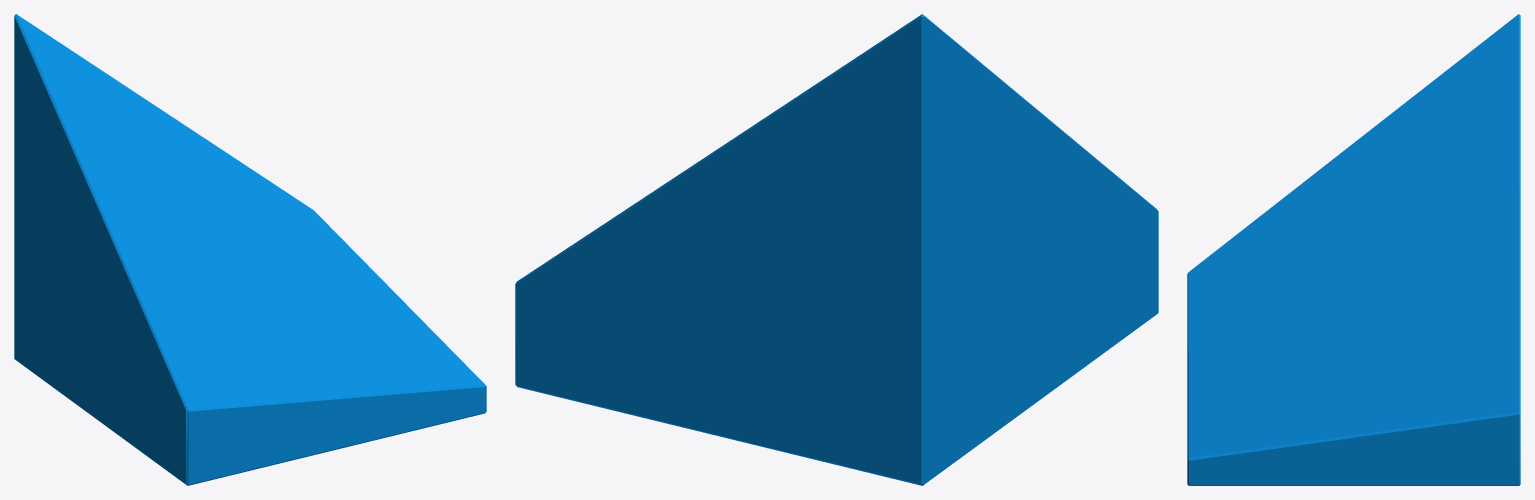
The model's file is Slide_Pyramid_09.fbx.
The picture shows the model from 3 angles, left to right: view 1: azimuth 30°, elevation 25°; view 2: azimuth 150°, elevation 25°; view 3: azimuth 270°, elevation 25°; orthographic projection. The views are drawn at different scales.
Parts seen in each view (by area): view 1: Slide_Pyramid_09; view 2: Slide_Pyramid_09; view 3: Slide_Pyramid_09.
Boxes of the visible parts, x1,y1,x2,y2 form: Slide_Pyramid_09: (14,14,486,485); Slide_Pyramid_09: (515,14,1158,485); Slide_Pyramid_09: (1187,14,1520,485).
Bounding box in the file's own units: 16.85 × 18.55 × 16.86.
